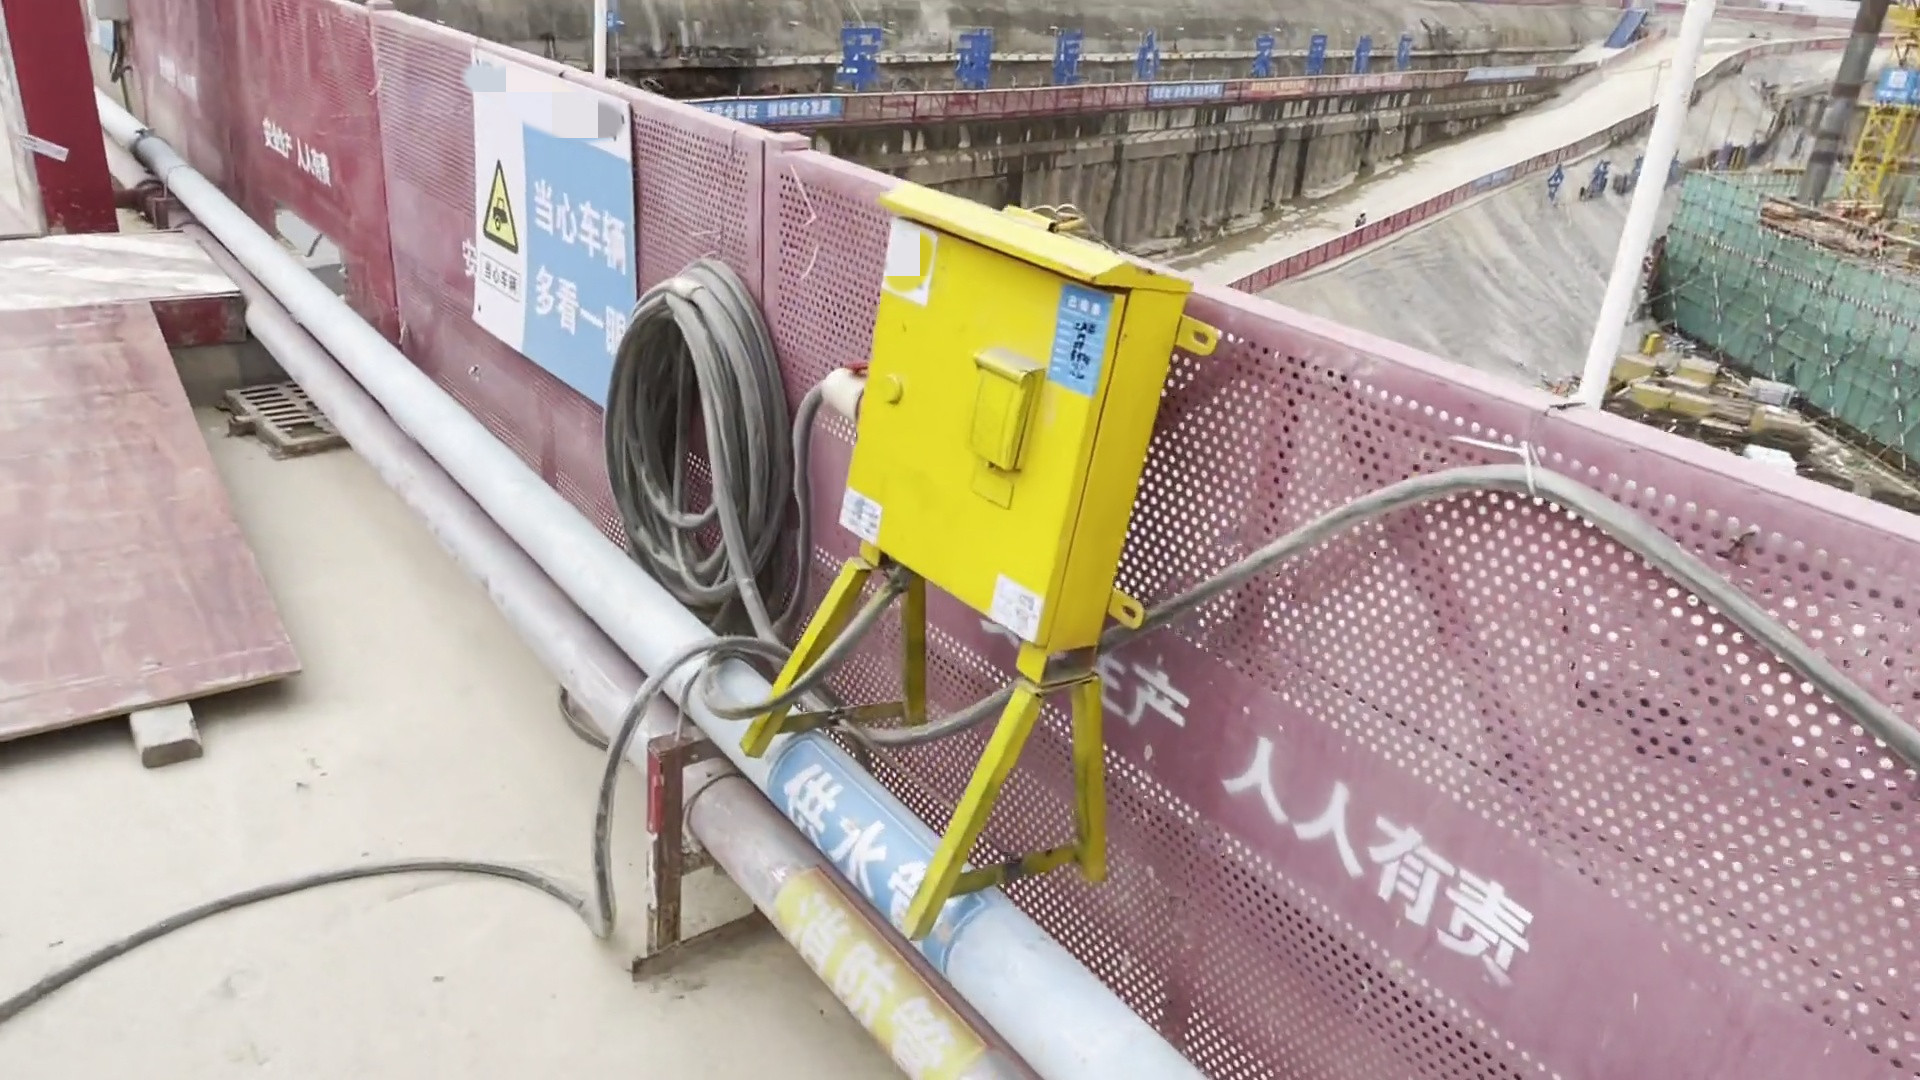board: (1, 285, 328, 823)
ebox: (704, 182, 1229, 955)
fence: (1226, 332, 1913, 1079)
slogan: (459, 50, 666, 422)
